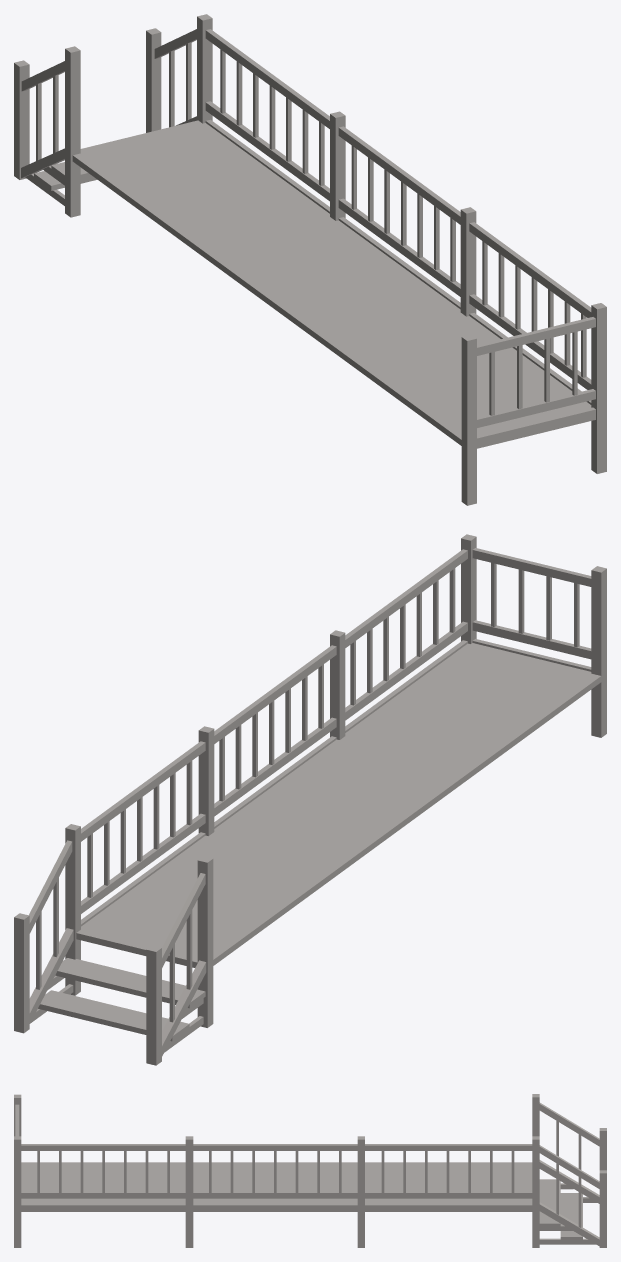
The model's file is SM_Props_Desert_MobileHome_Deck.fbx.
The picture shows the model from 3 angles, top to bottom: view 1: azimuth 30°, elevation 25°; view 2: azimuth 150°, elevation 25°; view 3: azimuth 270°, elevation 25°; orthographic projection. The views are drawn at different scales.
Visible parts, largest first — view 1: SM_Props_Desert_MobileHome_Deck; view 2: SM_Props_Desert_MobileHome_Deck; view 3: SM_Props_Desert_MobileHome_Deck.
Boxes of the visible parts, bbox=[...] form: SM_Props_Desert_MobileHome_Deck: bbox=[14, 14, 606, 505]; SM_Props_Desert_MobileHome_Deck: bbox=[14, 534, 606, 1065]; SM_Props_Desert_MobileHome_Deck: bbox=[14, 1094, 606, 1247].
Bounding box in the file's own units: 144 × 160 × 794.
